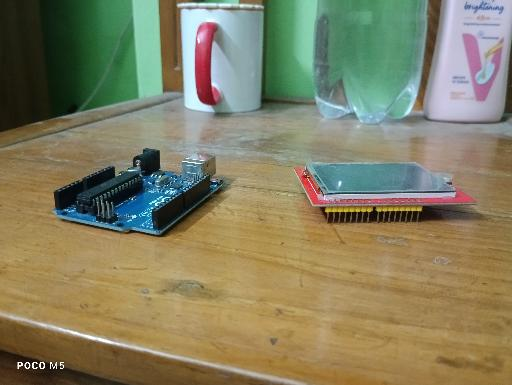Arduino: (53, 146, 227, 238)
Display: (293, 160, 478, 224)
